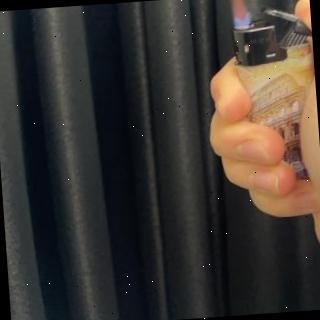fire: (225, 0, 254, 29)
